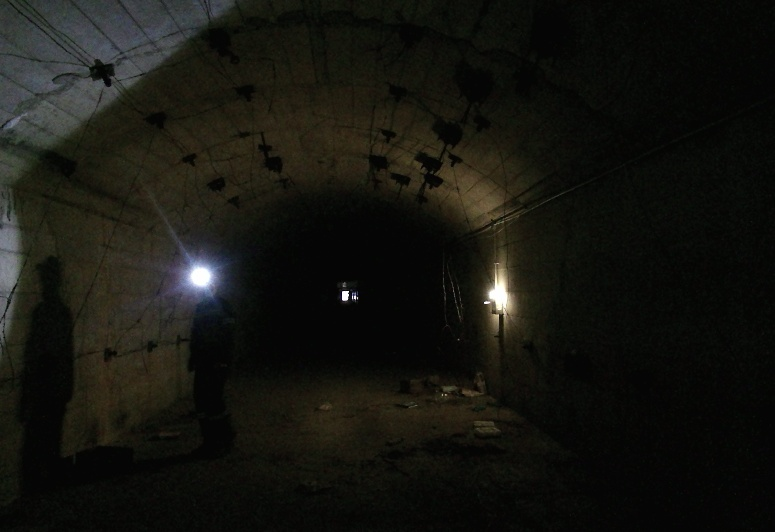person: (187, 271, 264, 456)
